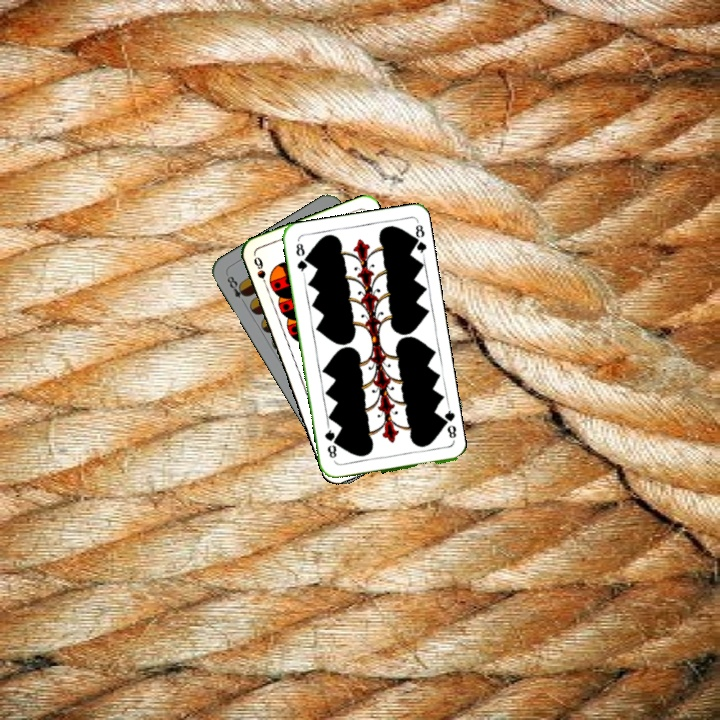E8: (223, 270, 250, 307)
G8: (437, 404, 459, 445), (292, 239, 310, 278)
S9: (250, 253, 270, 291)
